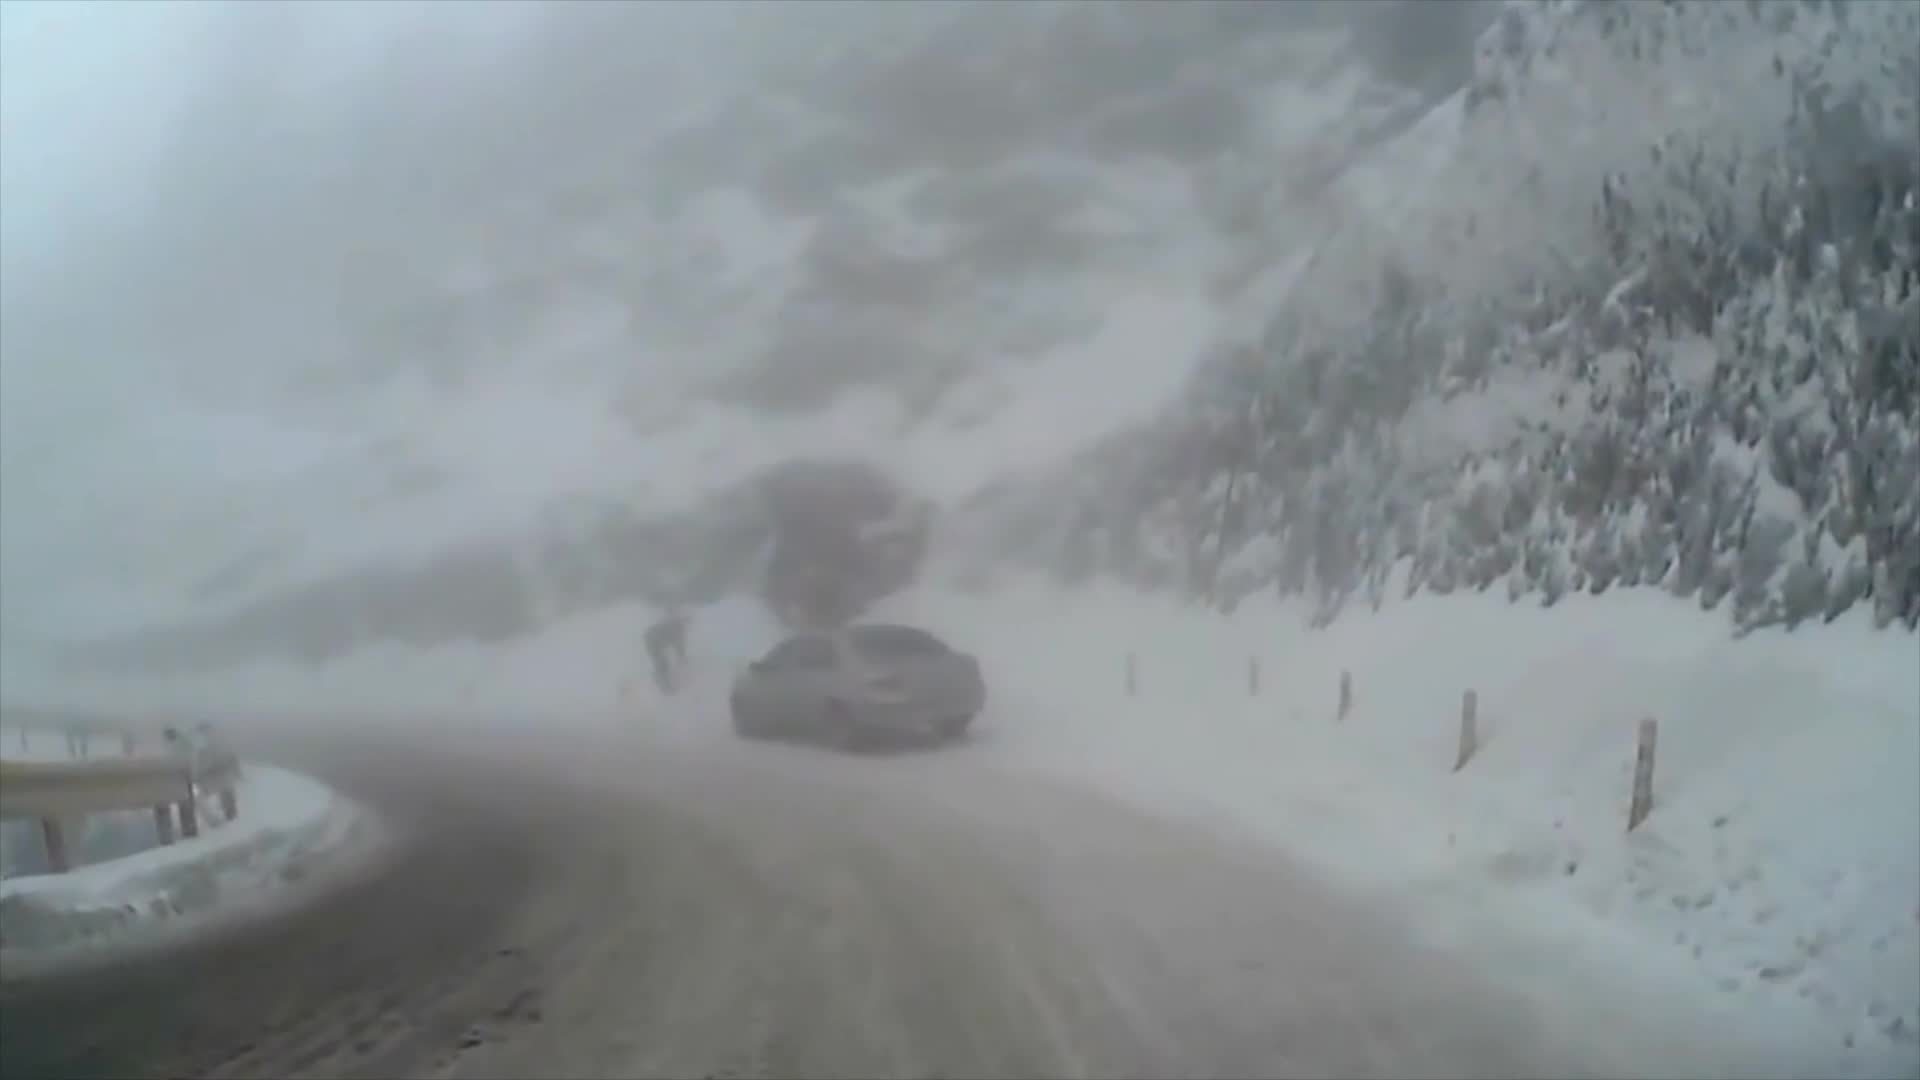pedestrian: (642, 612, 692, 693)
vehicle: (728, 621, 983, 748)
